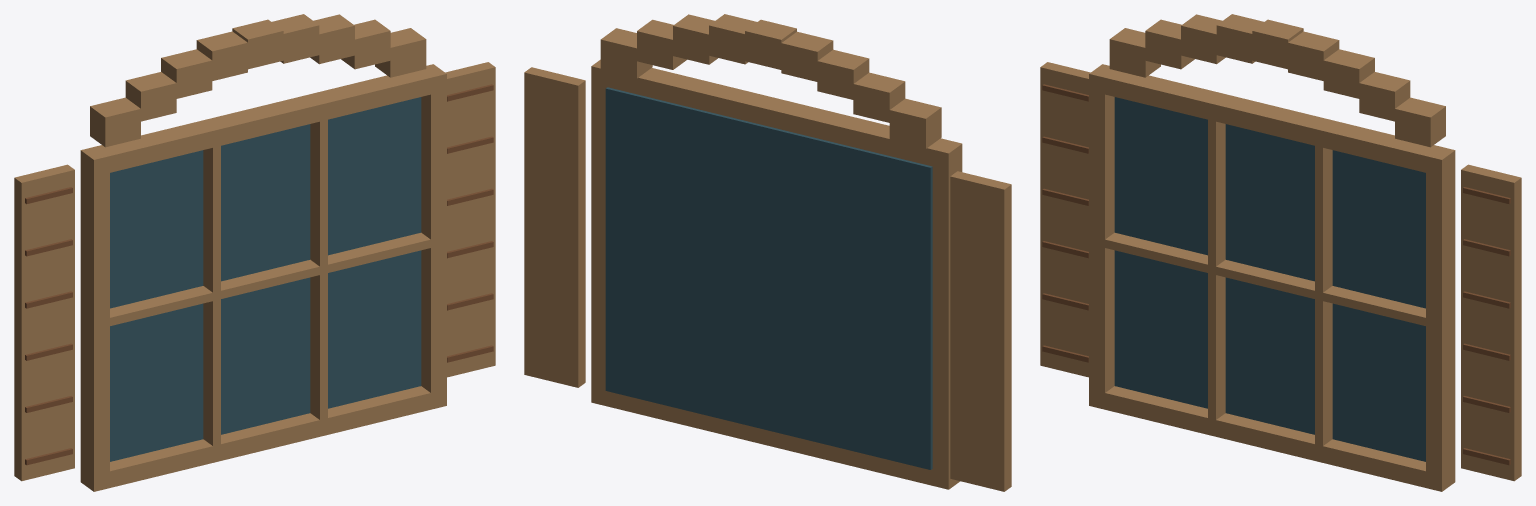
Rendered from window_12.glb.
3 renders of one model, left to right at view 1: azimuth 30°, elevation 25°; view 2: azimuth 150°, elevation 25°; view 3: azimuth 330°, elevation 25°, orthographic.
Visible parts, largest first — view 1: window_12; view 2: window_12; view 3: window_12.
Boxes of the visible parts, box(x1,y1,x2,y2) form: window_12: box(14, 14, 495, 491); window_12: box(524, 14, 1011, 491); window_12: box(1040, 14, 1521, 491).
Size of the model in its own units: 2.66 by 2.2 by 0.195.
